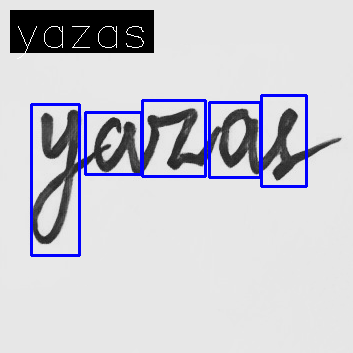a: (216, 105, 263, 176), (91, 116, 140, 175)
s: (267, 104, 308, 183)
y: (26, 106, 83, 246)
z: (144, 105, 202, 172)
